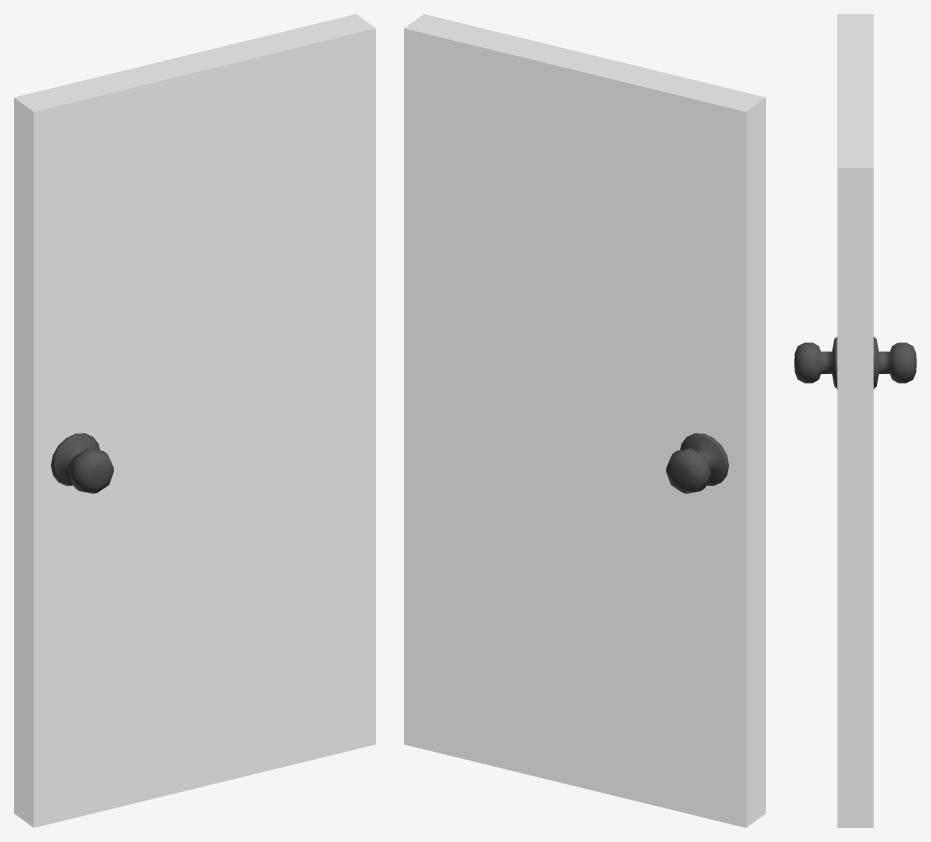
Rendered from door1Wacky.glb.
3 views of the same model, side by side, from view 1: azimuth 30°, elevation 25°; view 2: azimuth 150°, elevation 25°; view 3: azimuth 270°, elevation 25° (orthographic). The views are drawn at different scales.
Visible parts, largest first — view 1: door.col, DOORHANDLE1.col; view 2: door.col, DOORHANDLE0.col; view 3: door.col, DOORHANDLE0.col, DOORHANDLE1.col.
Boxes of the visible parts, box(x1,y1,x2,y2) form: door.col: box(14, 14, 375, 827); DOORHANDLE1.col: box(51, 433, 113, 493); door.col: box(404, 14, 765, 827); DOORHANDLE0.col: box(666, 433, 728, 493); door.col: box(837, 14, 873, 827); DOORHANDLE0.col: box(873, 337, 916, 388); DOORHANDLE1.col: box(794, 337, 837, 388).
Size of the model in its own units: 1 by 2 by 0.3365.
2 materials, 1 textured.
